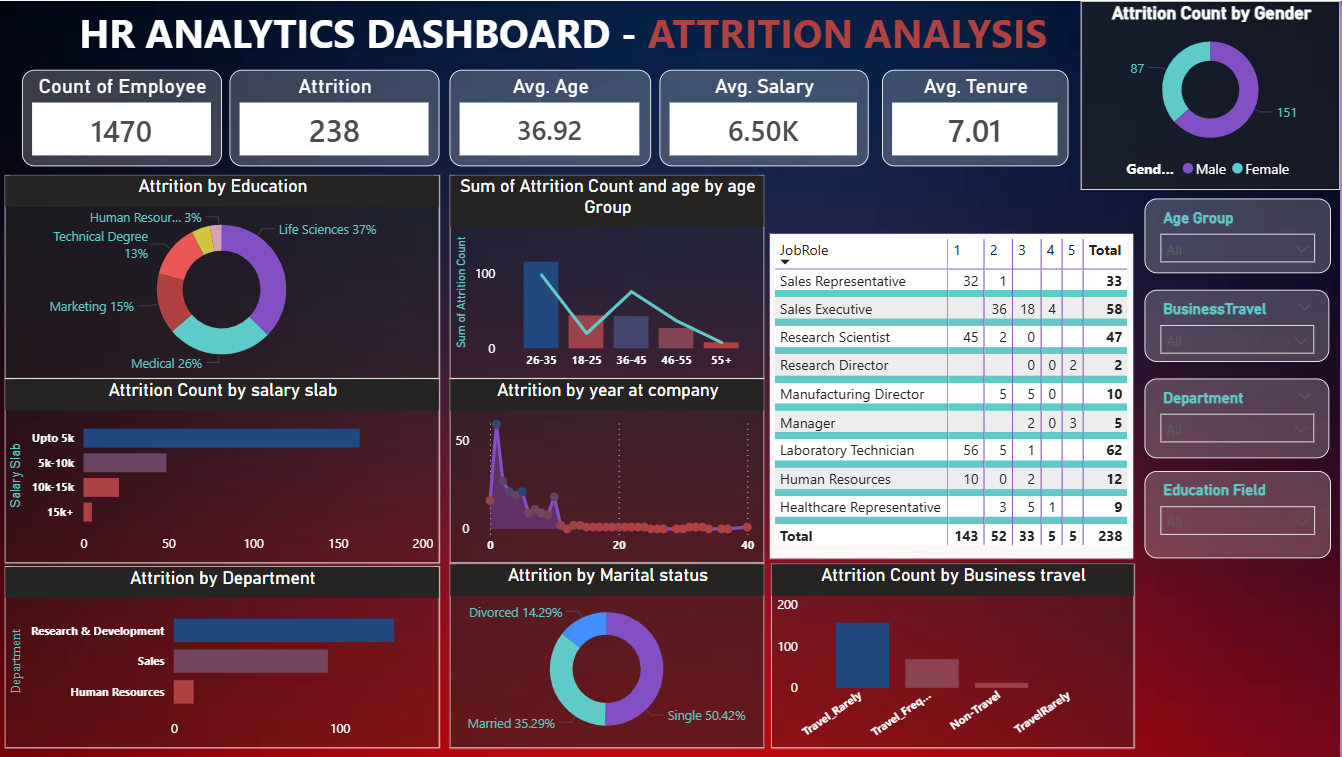

The page's visual inventory and layout, read from the dashboard file:
{"tool":"powerbi","page":{"name":"Page 1","canvas":[1280,720],"ordinal":0},"visuals":[{"type":"textbox","box":[17.9,0,1042.9,65.5],"z":0},{"type":"cardVisual","title":"Count of Employee","fields":{"Data":["Count(HR_Analytics.EmpID)"]},"box":[23.8,65.5,190.5,91.7],"z":1000},{"type":"cardVisual","title":"Attrition","fields":{"Data":["Sum(HR_Analytics.AttritionCount)"]},"box":[221.4,65.5,200,91.7],"z":2000},{"type":"cardVisual","title":"Avg. Age","fields":{"Data":["Avg(HR_Analytics.Age)"]},"box":[431,65.5,191.7,91.7],"z":3000},{"type":"cardVisual","title":"Avg. Salary","fields":{"Data":["Avg(HR_Analytics.MonthlyIncome)"]},"box":[631,65.5,198.8,91.7],"z":4000},{"type":"cardVisual","title":"Avg. Tenure","fields":{"Data":["Avg(HR_Analytics.YearsAtCompany)"]},"box":[842.9,65.5,177.4,91.7],"z":5000},{"type":"donutChart","title":" Attrition Count by Gender","fields":{"Category":["HR_Analytics.Gender"],"Y":["Sum(HR_Analytics.AttritionCount)"]},"box":[1032.1,0,247.6,179.8],"z":6000},{"type":"donutChart","title":"Attrition  by Education","fields":{"Category":["HR_Analytics.EducationField","HR_Analytics.YearsAtCompany"],"Y":["Sum(HR_Analytics.AttritionCount)"]},"box":[7.1,165.5,414.3,194],"z":7000},{"type":"lineStackedColumnComboChart","title":"Sum of Attrition Count and age  by age Group","fields":{"Category":["HR_Analytics.AgeGroup"],"Y":["Sum(HR_Analytics.AttritionCount)"],"Y2":["Sum(HR_Analytics.Attrition Rate)"]},"box":[431,165.5,300,194],"z":8000},{"type":"pivotTable","fields":{"Rows":["HR_Analytics.JobRole"],"Columns":["HR_Analytics.JobLevel"],"Values":["Sum(HR_Analytics.AttritionCount)"]},"box":[735.7,221.4,346.4,309.5],"z":9000},{"type":"barChart","title":" Attrition Count  by salary slab","fields":{"Category":["HR_Analytics.SalarySlab"],"Y":["Sum(HR_Analytics.AttritionCount)"]},"box":[7.1,359.5,414.3,176.2],"z":10000},{"type":"areaChart","title":" Attrition by year at company","fields":{"Category":["HR_Analytics.YearsAtCompany"],"Y":["Sum(HR_Analytics.AttritionCount)"]},"box":[431,359.5,300,176.2],"z":11000},{"type":"barChart","title":" Attrition by Department","fields":{"Y":["Sum(HR_Analytics.AttritionCount)"],"Category":["HR_Analytics.Department"]},"box":[7.1,538.1,414.3,173.8],"z":12000},{"type":"donutChart","title":"Attrition  by Marital status","fields":{"Y":["Sum(HR_Analytics.AttritionCount)"],"Category":["HR_Analytics.MaritalStatus"]},"box":[431,535.7,300,176.2],"z":13000},{"type":"columnChart","title":" Attrition Count  by Business travel","fields":{"Category":["HR_Analytics.BusinessTravel"],"Y":["Sum(HR_Analytics.AttritionCount)"]},"box":[736.9,535.7,346.4,176.2],"z":14000},{"type":"slicer","fields":{"Values":["HR_Analytics.AgeGroup"]},"box":[1092.9,188.1,177.4,71.4],"z":15000},{"type":"slicer","fields":{"Values":["HR_Analytics.BusinessTravel"]},"box":[1092.9,275,176.2,69],"z":16000},{"type":"slicer","fields":{"Values":["HR_Analytics.Department"]},"box":[1092.9,359.5,176.2,76.2],"z":17000},{"type":"slicer","fields":{"Values":["HR_Analytics.EducationField"]},"box":[1092.9,447.6,177.4,83.3],"z":18000}]}

Visuals, with their boxes in screenshot pixels (x1, y1, x2, y2), scaled from the page's 1280x720 canvas onto the 1342x757 screenshot:
textbox: rect(19, 0, 1112, 69)
"Count of Employee" cardVisual: rect(25, 69, 225, 165)
"Attrition" cardVisual: rect(232, 69, 442, 165)
"Avg. Age" cardVisual: rect(452, 69, 653, 165)
"Avg. Salary" cardVisual: rect(662, 69, 870, 165)
"Avg. Tenure" cardVisual: rect(884, 69, 1070, 165)
" Attrition Count by Gender" donutChart: rect(1082, 0, 1341, 189)
"Attrition  by Education" donutChart: rect(7, 174, 442, 378)
"Sum of Attrition Count and age  by age Group" lineStackedColumnComboChart: rect(452, 174, 766, 378)
pivotTable - HR_Analytics.JobRole x HR_Analytics.JobLevel: rect(771, 233, 1135, 558)
" Attrition Count  by salary slab" barChart: rect(7, 378, 442, 563)
" Attrition by year at company" areaChart: rect(452, 378, 766, 563)
" Attrition by Department" barChart: rect(7, 566, 442, 748)
"Attrition  by Marital status" donutChart: rect(452, 563, 766, 748)
" Attrition Count  by Business travel" columnChart: rect(773, 563, 1136, 748)
slicer - HR_Analytics.AgeGroup: rect(1146, 198, 1332, 273)
slicer - HR_Analytics.BusinessTravel: rect(1146, 289, 1331, 362)
slicer - HR_Analytics.Department: rect(1146, 378, 1331, 458)
slicer - HR_Analytics.EducationField: rect(1146, 471, 1332, 558)
